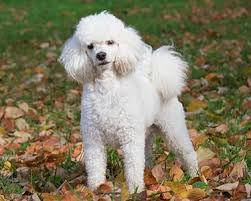Bulldog: (41, 12, 220, 191)
